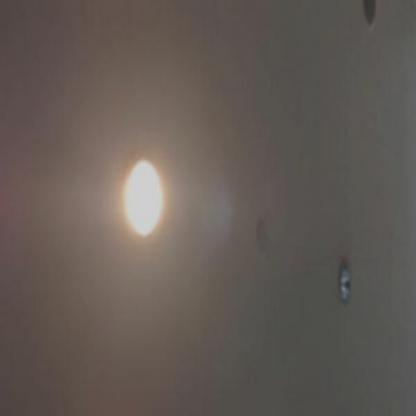light_on: (110, 142, 130, 242)
